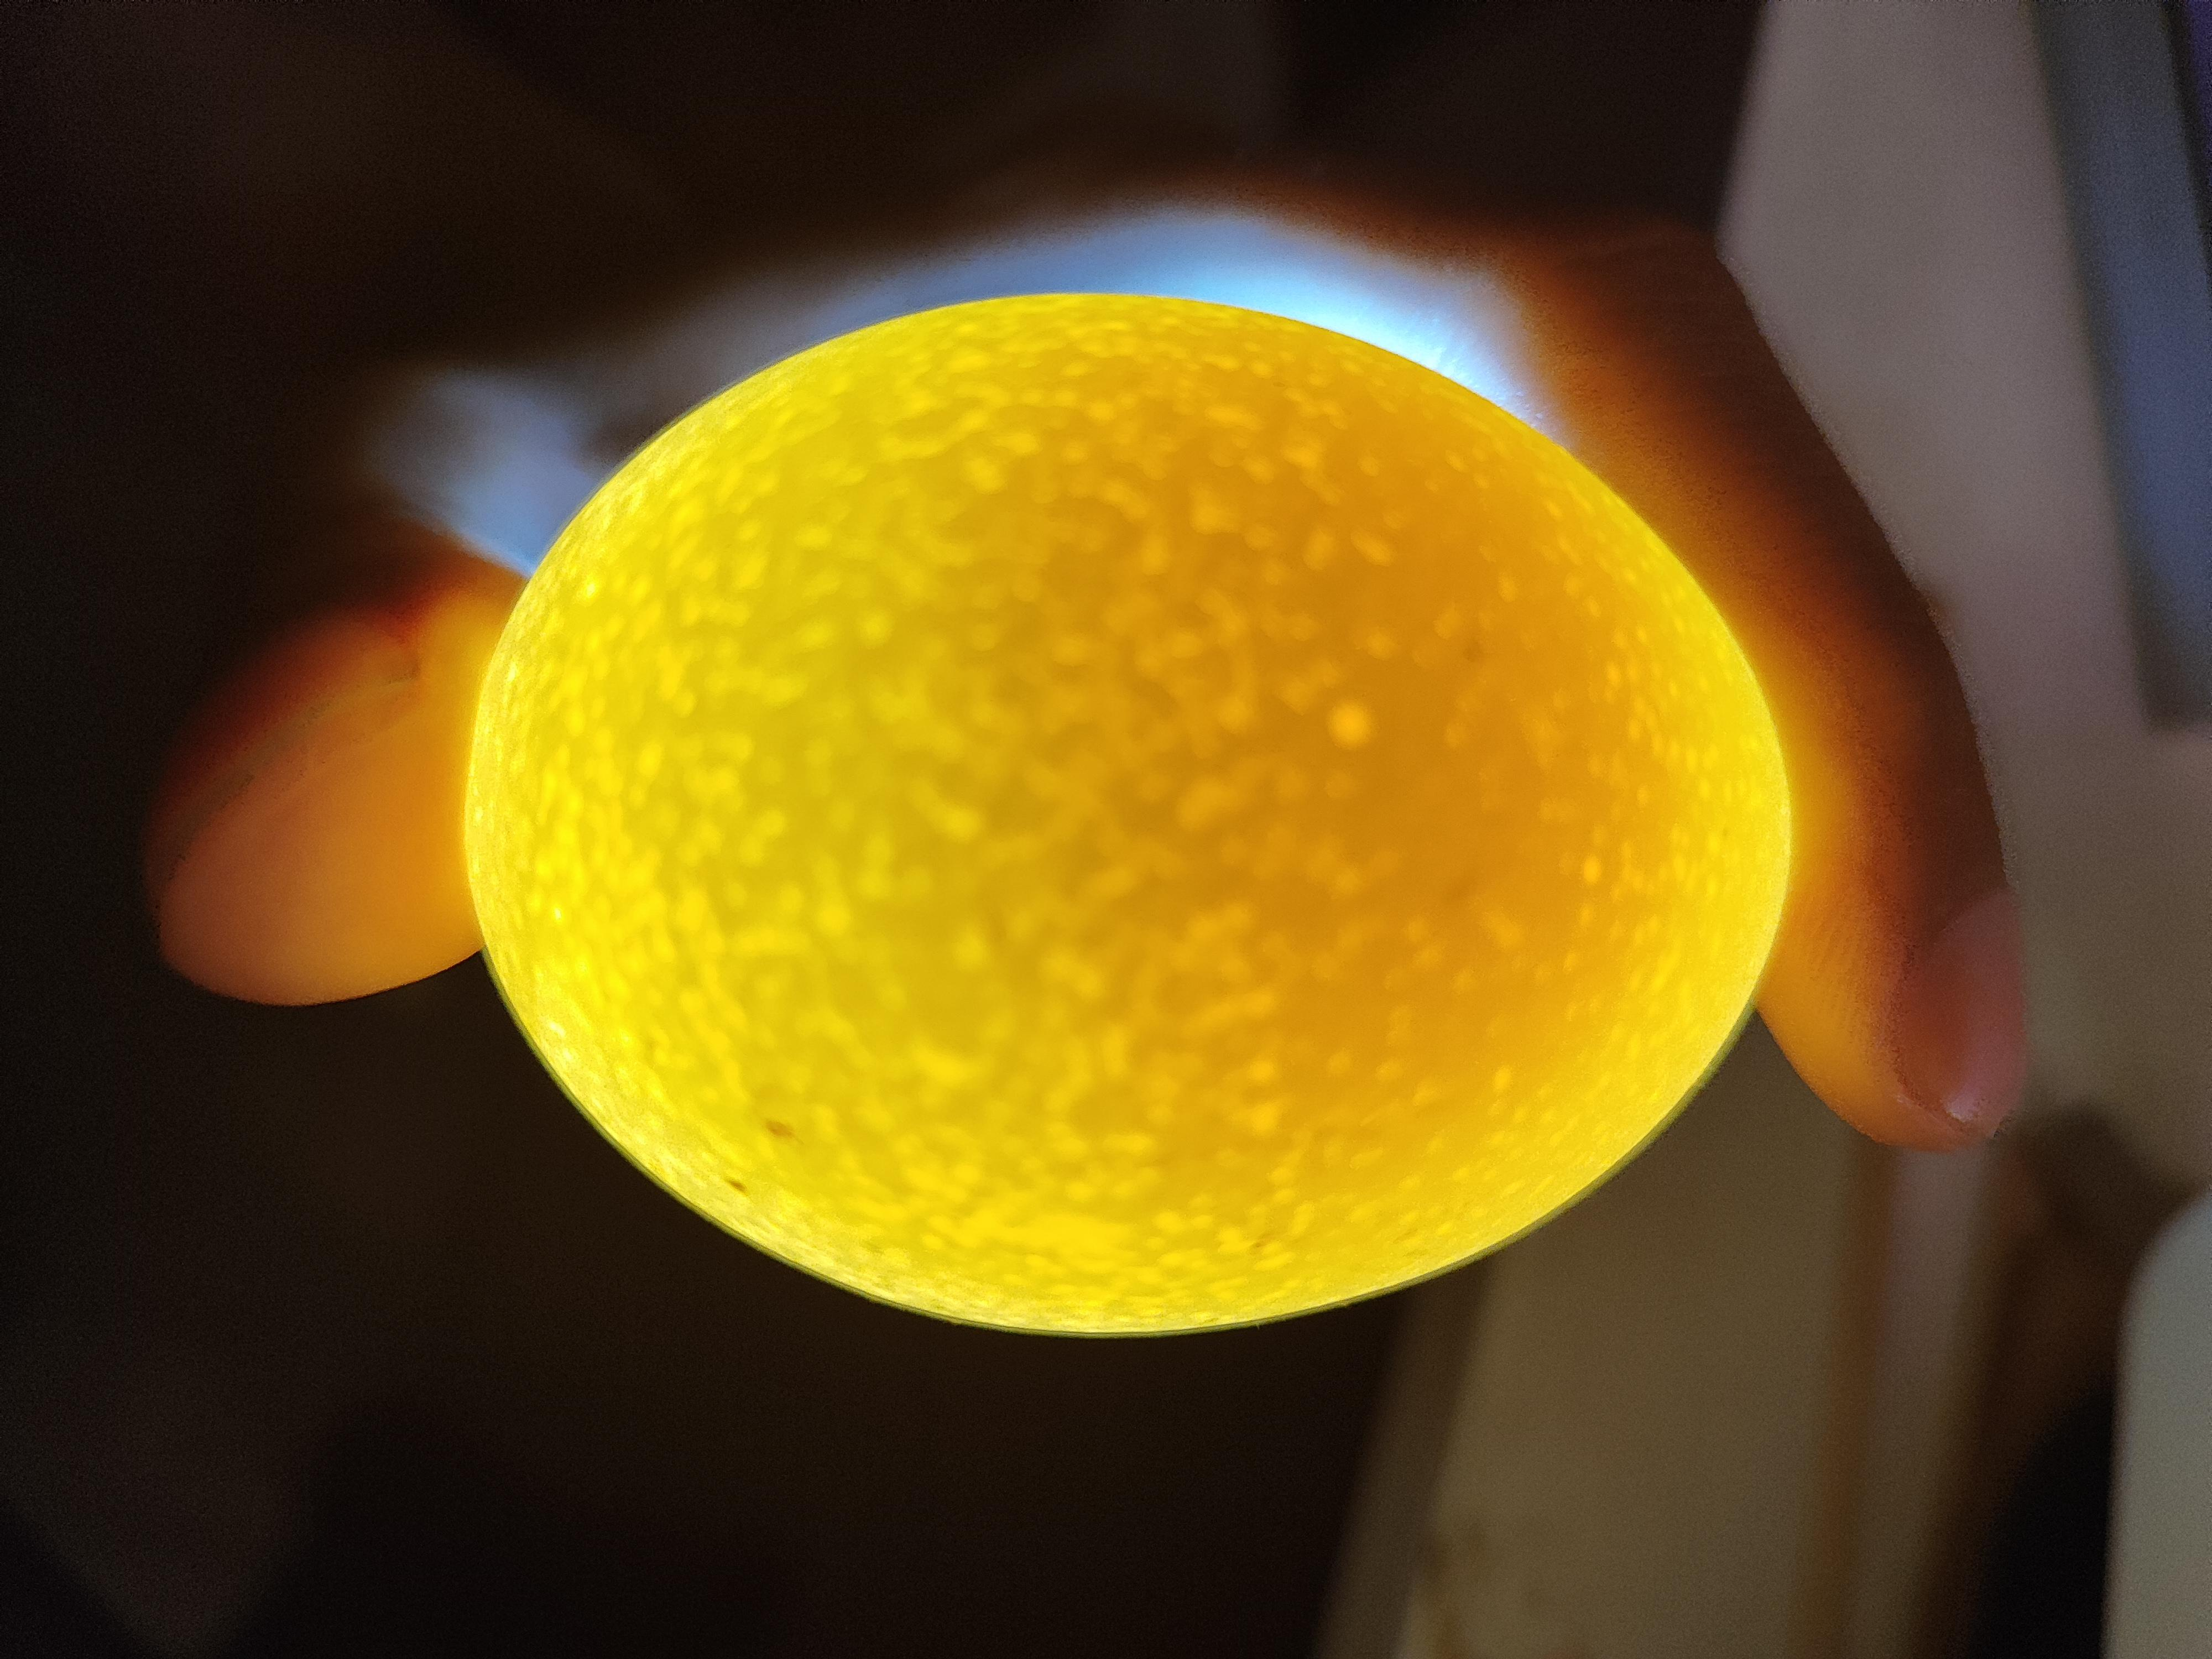A - Good: (453, 288, 1803, 1368)
